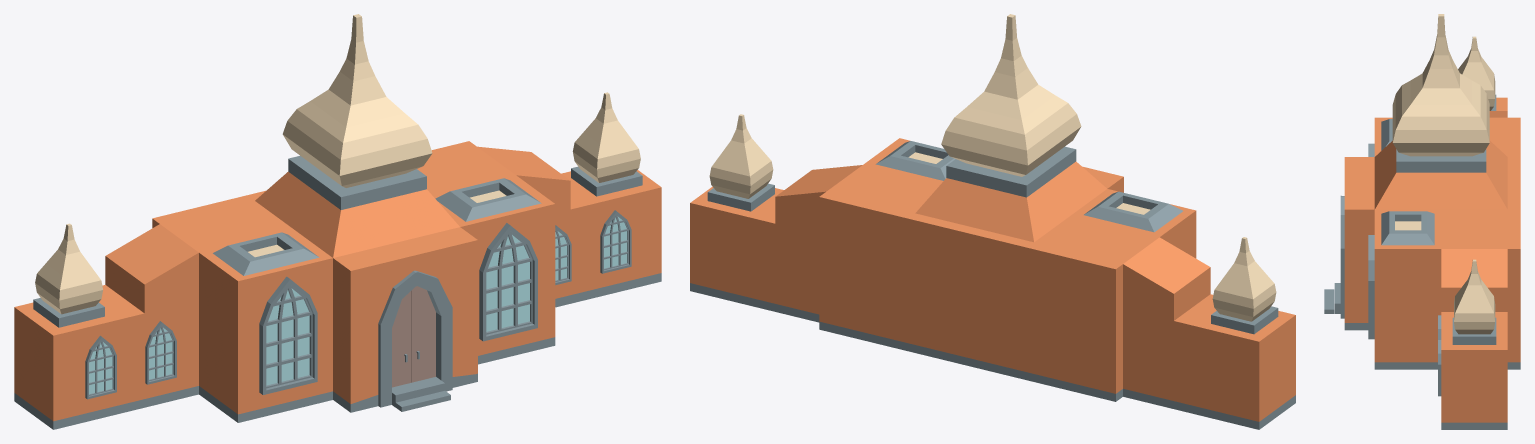
Rendered from scene_MleueSy5IP.glb.
3 renders of one model, left to right at view 1: azimuth 30°, elevation 25°; view 2: azimuth 150°, elevation 25°; view 3: azimuth 270°, elevation 25°, orthographic. The views are drawn at different scales.
Visible parts, largest first — view 1: Palace_Cube.038; view 2: Palace_Cube.038; view 3: Palace_Cube.038.
Boxes of the visible parts, x1,y1,x2,y2 form: Palace_Cube.038: (14,14,661,429); Palace_Cube.038: (690,14,1295,429); Palace_Cube.038: (1324,14,1520,429).
Size of the model in its own units: 22.19 by 11.85 by 7.31.
